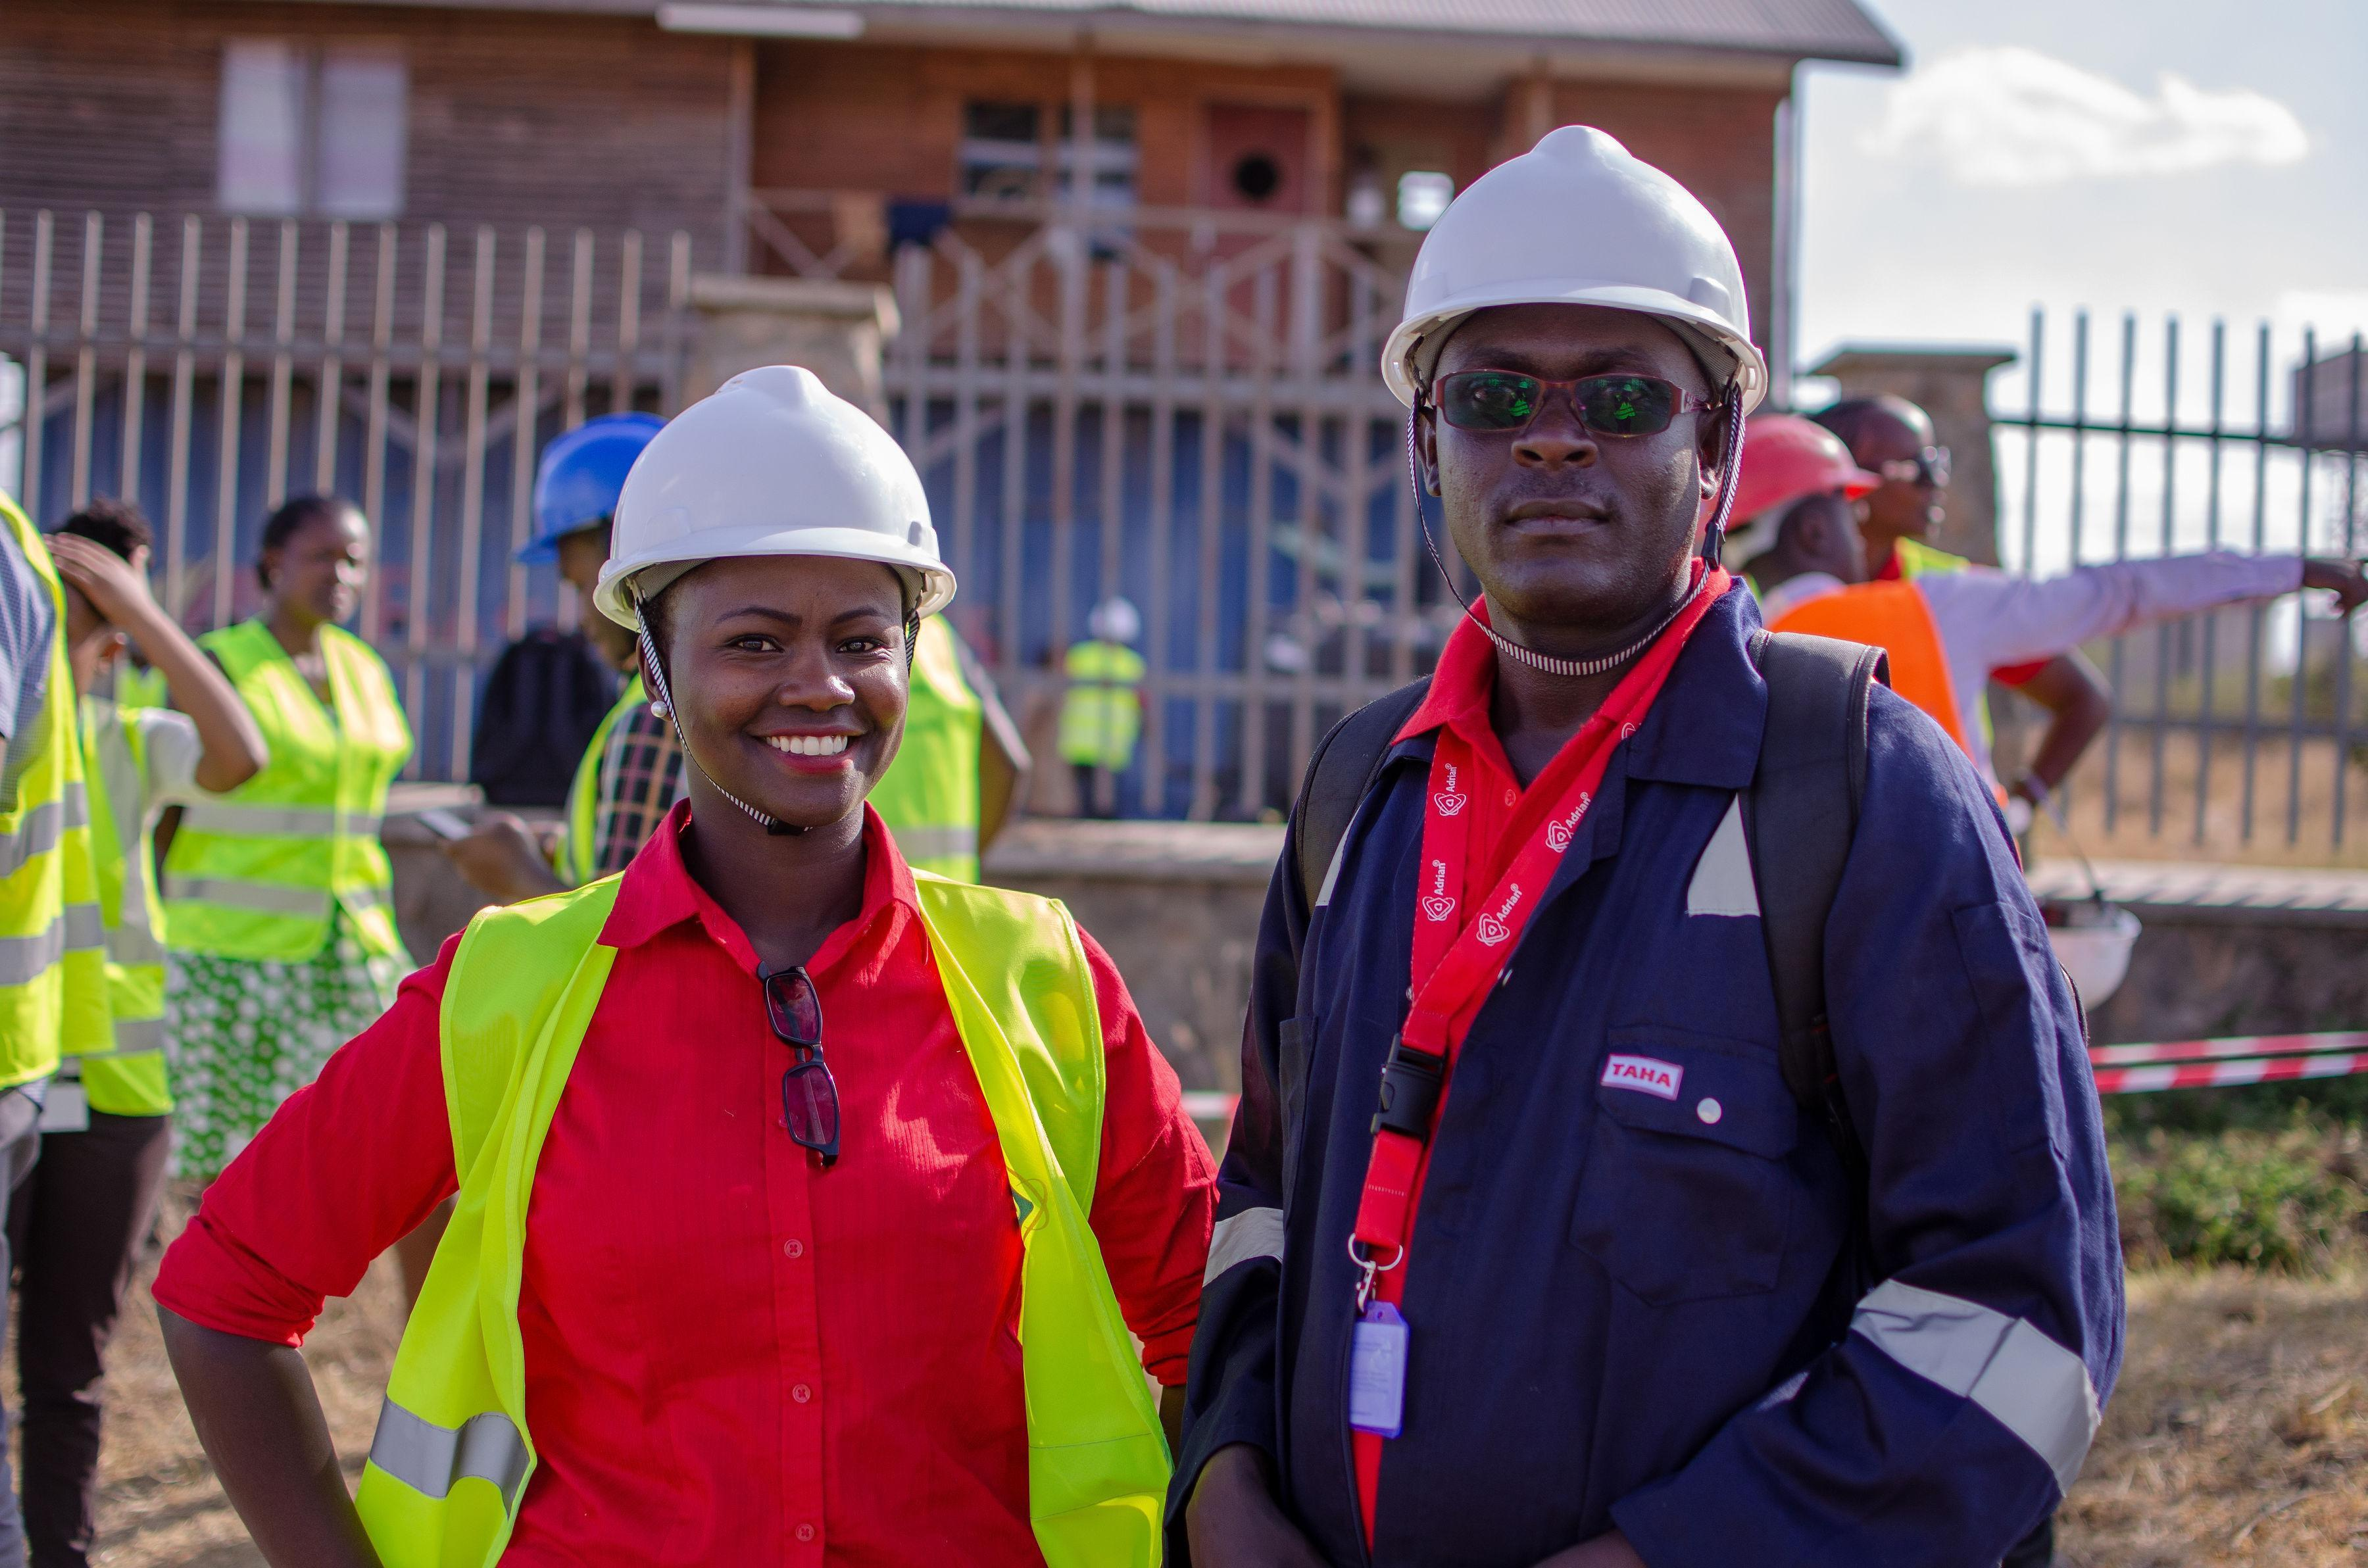hardhat: (1379, 128, 1771, 404), (593, 364, 956, 606)
worker: (1180, 124, 2129, 1563), (154, 366, 1216, 1568)
